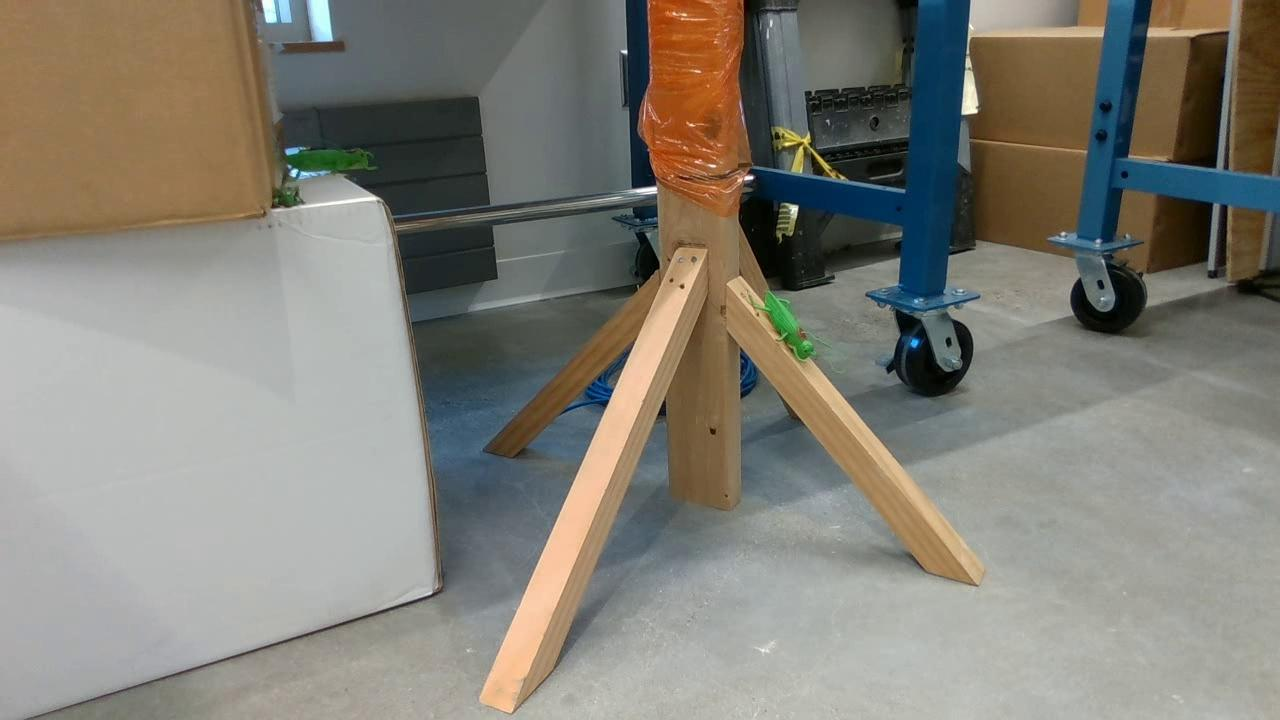grasshopper: (752, 281, 814, 360), (279, 146, 375, 175)
